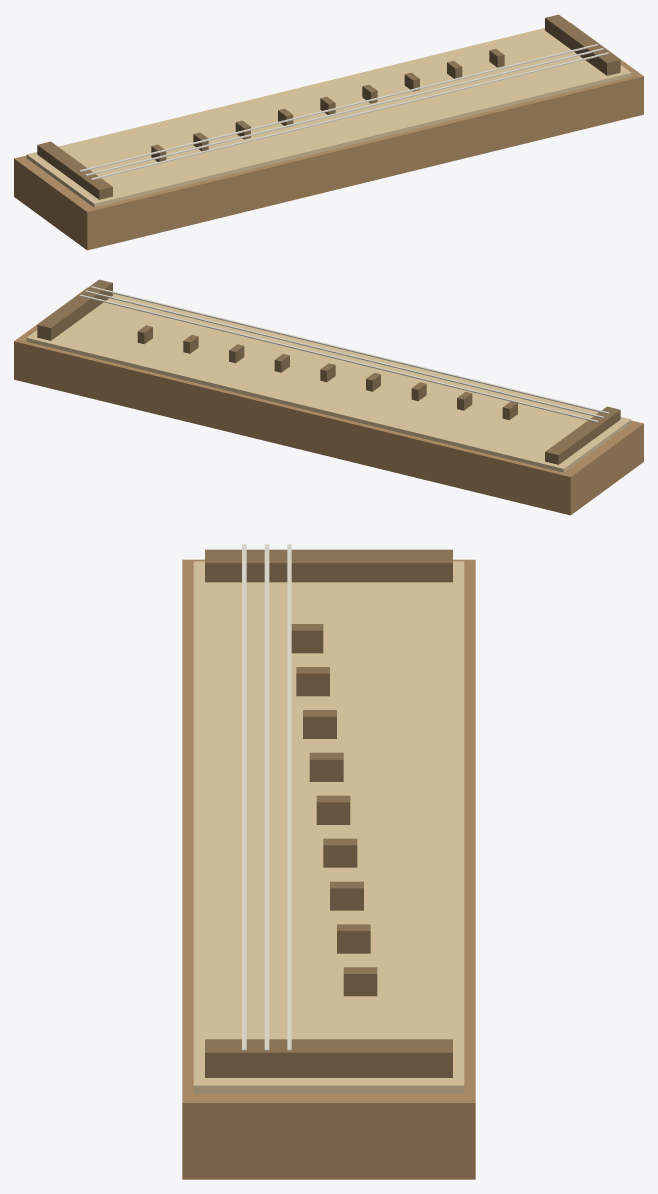
Rendered from guzheng.glb.
The picture shows the model from 3 angles, top to bottom: view 1: azimuth 30°, elevation 25°; view 2: azimuth 150°, elevation 25°; view 3: azimuth 270°, elevation 25°; orthographic projection. The views are drawn at different scales.
Parts seen in each view (by area): view 1: guzheng; view 2: guzheng; view 3: guzheng.
Part boxes in pixels (<box>): guzheng: <box>14,14,643,250</box>; guzheng: <box>14,279,643,515</box>; guzheng: <box>182,544,475,1179</box>.
Size of the model in its own units: 1.14 by 0.1085 by 0.26.
